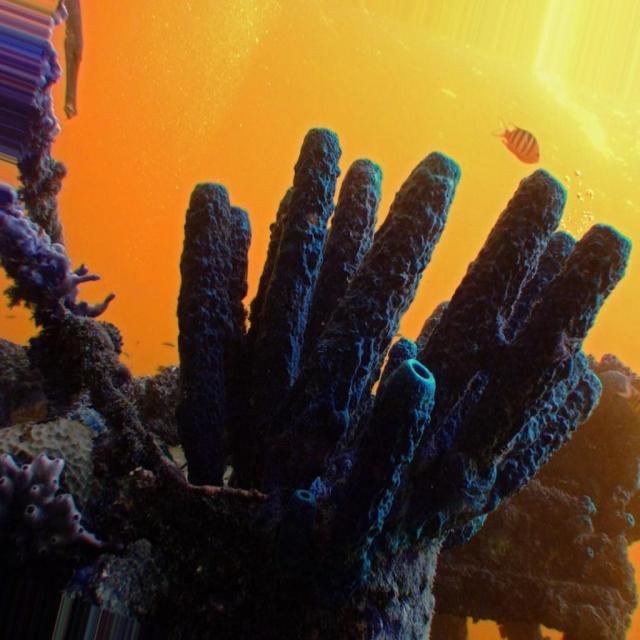Healthy: (179, 132, 631, 625), (1, 80, 156, 524)
